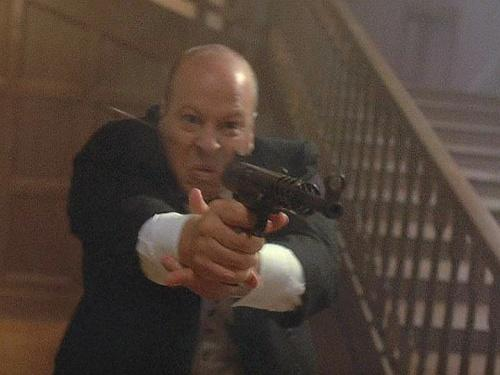Gun: (224, 159, 347, 232)
